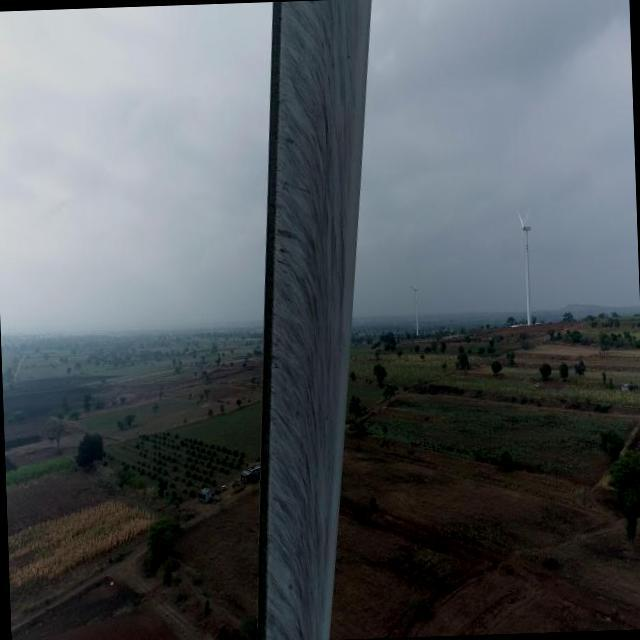Dirt: (261, 0, 374, 640)
